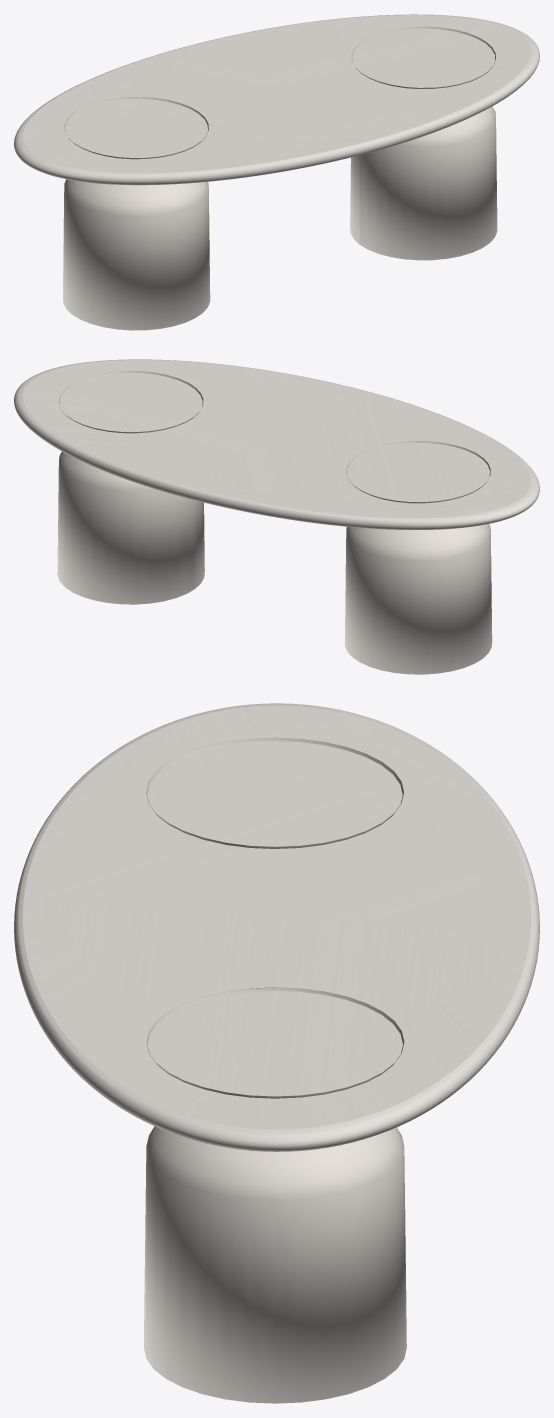
The model's file is pearlwhite_ellips_round_tornado.glb.
3 renders of one model, top to bottom at view 1: azimuth 30°, elevation 25°; view 2: azimuth 150°, elevation 25°; view 3: azimuth 270°, elevation 25°, orthographic. The views are drawn at different scales.
Visible parts, largest first — view 1: tabletop_ellips_round.014, tableleg_tornado.002; view 2: tabletop_ellips_round.014, tableleg_tornado.002; view 3: tabletop_ellips_round.014, tableleg_tornado.002.
Part boxes in pixels (box(x1,y1,x2,y2)): tabletop_ellips_round.014: box(14, 14, 539, 185); tableleg_tornado.002: box(63, 26, 497, 330); tabletop_ellips_round.014: box(14, 359, 539, 529); tableleg_tornado.002: box(57, 371, 492, 674); tabletop_ellips_round.014: box(14, 703, 539, 1151); tableleg_tornado.002: box(143, 737, 406, 1403).
Bounding box in the file's own units: 7.5 × 2.44 × 3.8.
Materials: 2 (2 with a texture image).
